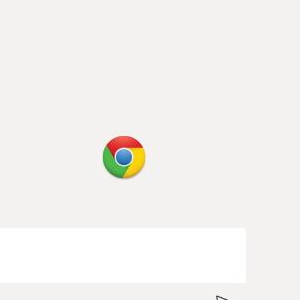chrome: (102, 135, 146, 179)
